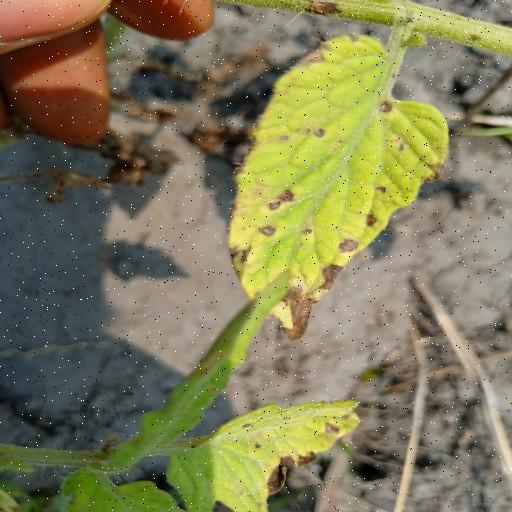Tomato_Brown_Spots: (227, 31, 458, 342)
